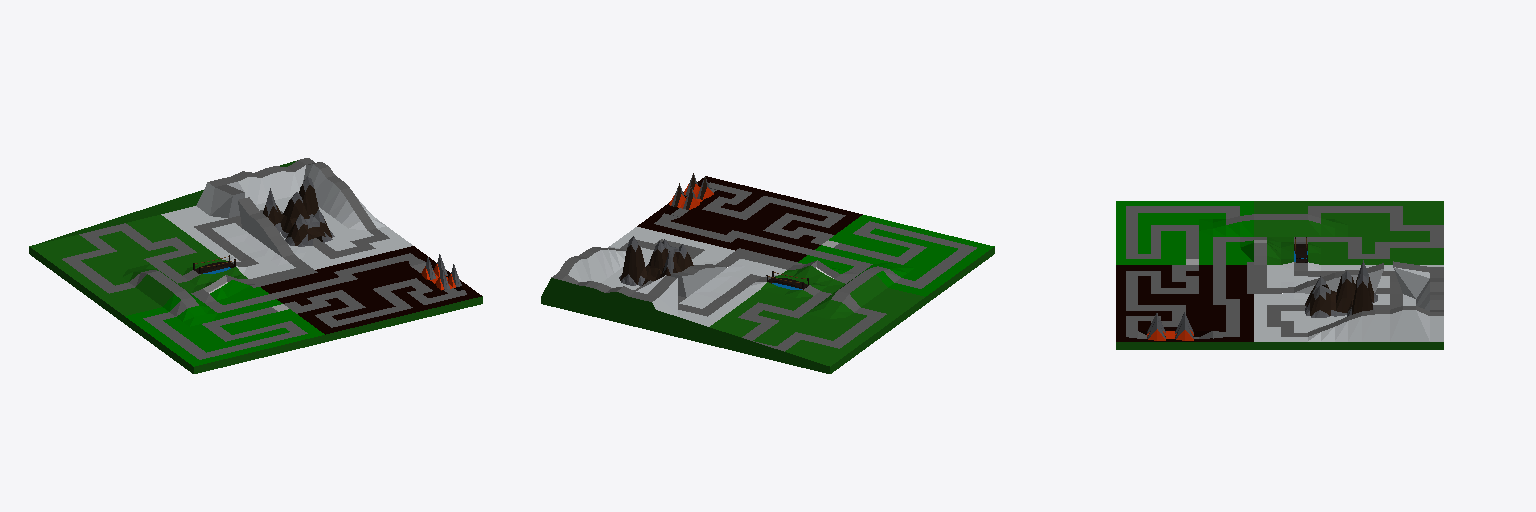
3 views of the same model, side by side, from view 1: azimuth 30°, elevation 25°; view 2: azimuth 150°, elevation 25°; view 3: azimuth 270°, elevation 25° (orthographic).
Parts seen in each view (by area): view 1: Plane, Mountain_Plane.001, MountainUnder_Plane.002; view 2: Plane, Mountain_Plane.001, MountainUnder_Plane.002; view 3: Plane, Mountain_Plane.001, MountainUnder_Plane.002.
Boxes of the visible parts, x1=… form: Plane: x1=29, y1=158, x2=482, y2=373; Mountain_Plane.001: x1=263, y1=176, x2=334, y2=246; MountainUnder_Plane.002: x1=421, y1=254, x2=461, y2=290; Plane: x1=541, y1=176, x2=994, y2=373; Mountain_Plane.001: x1=619, y1=236, x2=693, y2=285; MountainUnder_Plane.002: x1=669, y1=173, x2=713, y2=209; Plane: x1=1116, y1=201, x2=1443, y2=349; Mountain_Plane.001: x1=1305, y1=260, x2=1377, y2=317; MountainUnder_Plane.002: x1=1147, y1=312, x2=1193, y2=340.
Size of the model in its own units: 146 by 26.75 by 144.
14 materials, 3 textured.